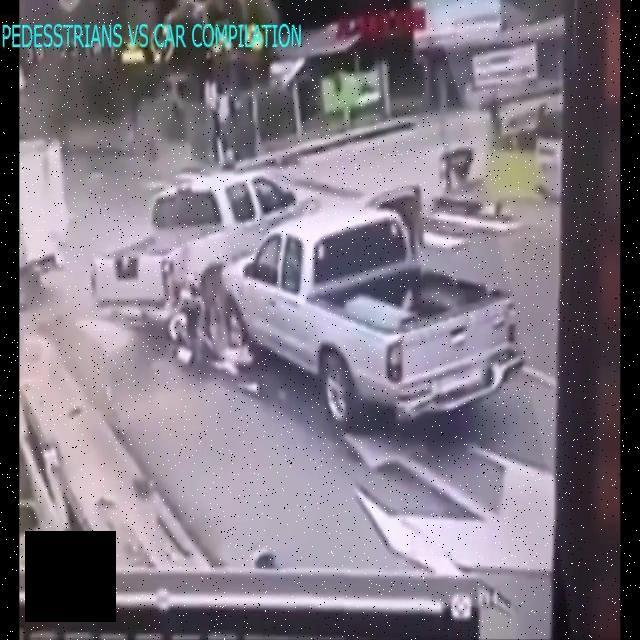moderate: (84, 153, 524, 432)
